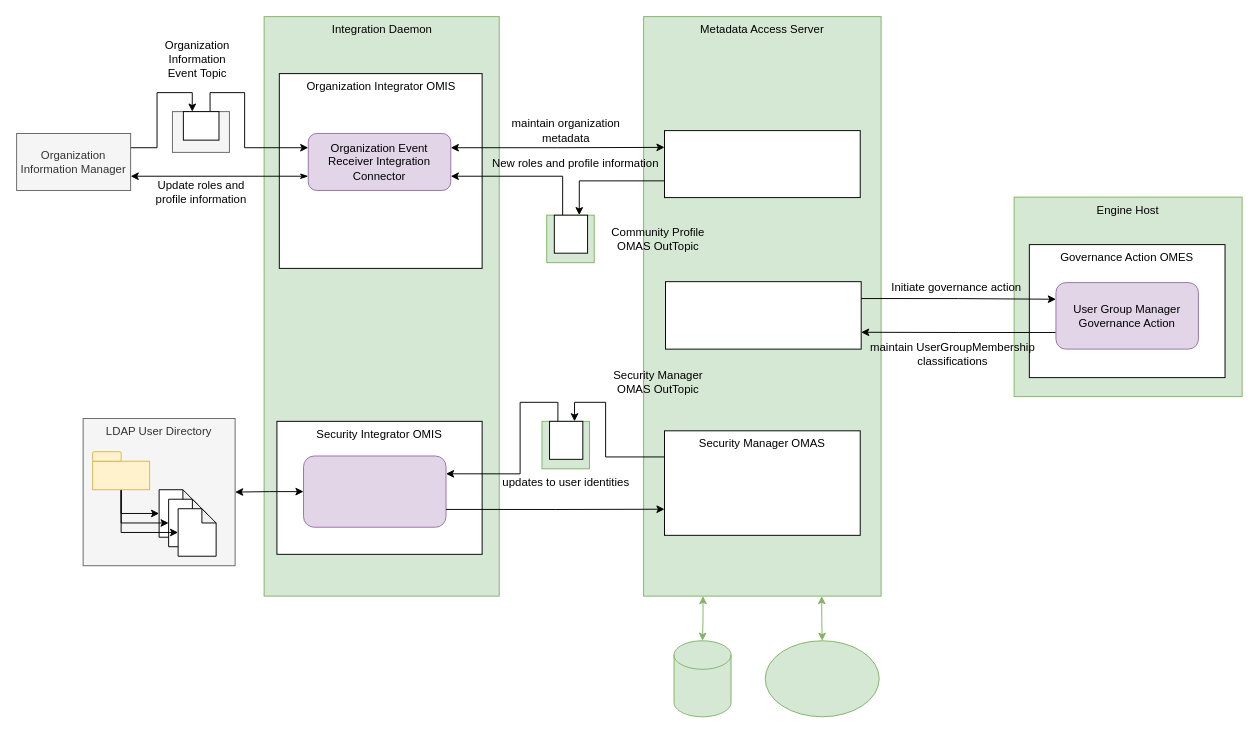
Image size: 1259x733. Some labels were removed from this diagram. The shapes that lost their labels are listed below. From the top down, each one's centre as x and y in pixels, then its label:
At point 762,164: "Community Profile OMAS".
At point 763,315: "Governance Engine OMAS".
At point 374,491: "LDAP User Information Distributor Integration Connector".
At point 702,678: "Metadata Store".
At point 821,678: "Cohort".
